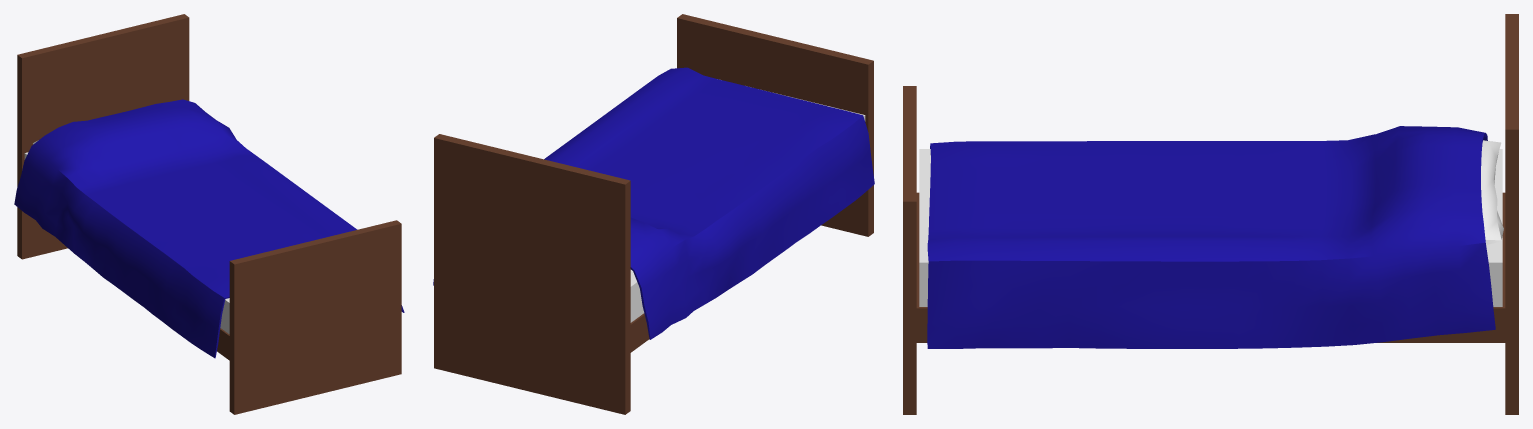
The model's file is charliroom_cama.fbx.
The picture shows the model from 3 angles, left to right: view 1: azimuth 30°, elevation 25°; view 2: azimuth 150°, elevation 25°; view 3: azimuth 270°, elevation 25°; orthographic projection. The views are drawn at different scales.
Parts seen in each view (by area): view 1: manta, cama; view 2: cama, manta; view 3: manta, cama, almohada.
Boxes of the visible parts, x1=… form: manta: x1=14, y1=99, x2=404, y2=358; cama: x1=17, y1=14, x2=401, y2=414; cama: x1=434, y1=14, x2=873, y2=414; manta: x1=433, y1=67, x2=874, y2=339; manta: x1=927, y1=126, x2=1495, y2=348; cama: x1=903, y1=14, x2=1518, y2=414; almohada: x1=1481, y1=140, x2=1503, y2=244.
Bounding box in the file's own units: 116 × 115 × 225.
